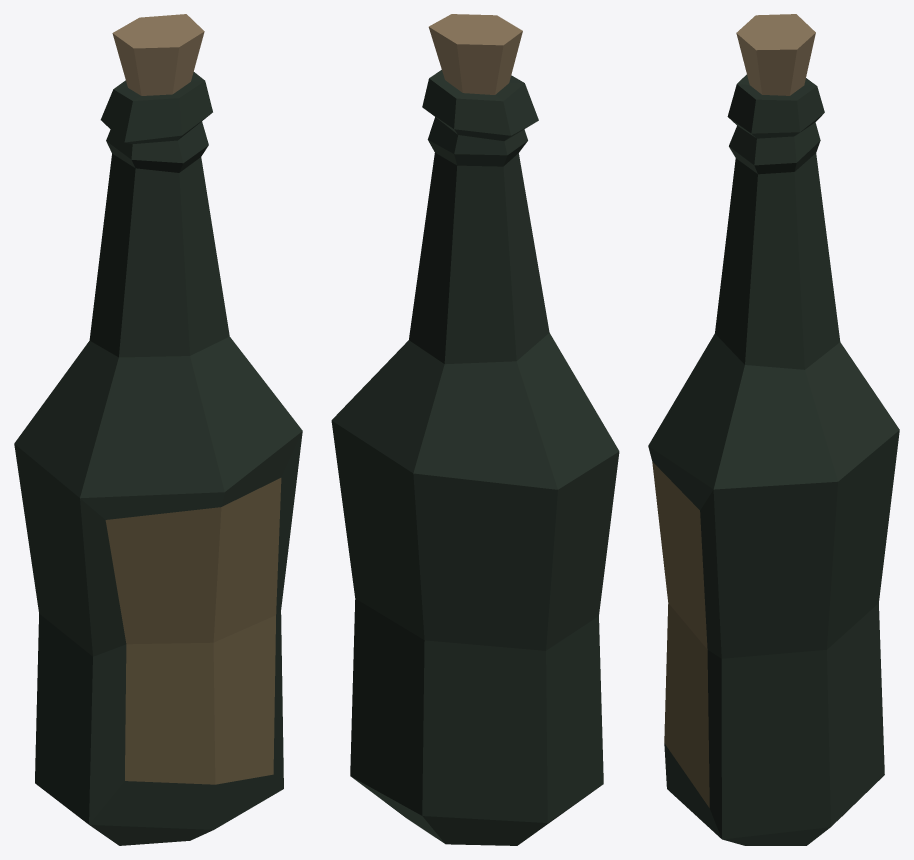
File: Bottle02.fbx
The picture shows the model from 3 angles, left to right: view 1: azimuth 30°, elevation 25°; view 2: azimuth 150°, elevation 25°; view 3: azimuth 270°, elevation 25°; orthographic projection.
Visible parts, largest first — view 1: Bottle02; view 2: Bottle02; view 3: Bottle02.
Part boxes in pixels (left/top/right/bottom): Bottle02: left=14, top=14, right=302, bottom=845; Bottle02: left=331, top=14, right=619, bottom=845; Bottle02: left=648, top=14, right=899, bottom=845.
Size of the model in its own units: 0.3309 by 1.1 by 0.3186.
